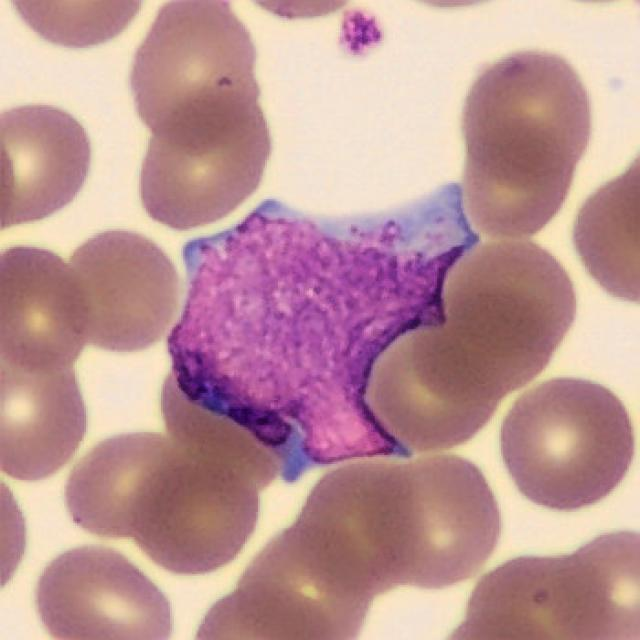Linfocito atipico: (166, 185, 479, 482)
